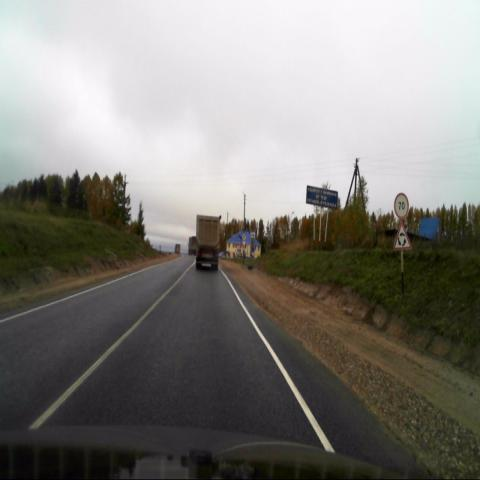1_7: (393, 221, 411, 250)
